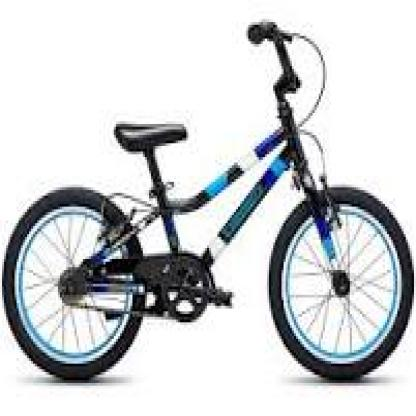Bike: (0, 20, 416, 385)
